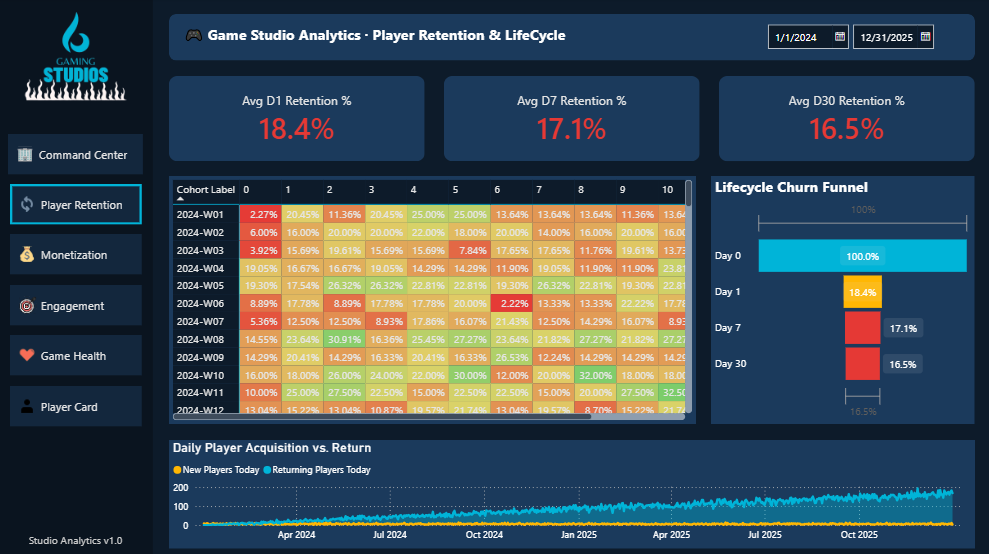

What the dashboard file says about the page in this screenshot:
{"tool":"powerbi","page":{"name":"Player Retention","canvas":[1280,720],"ordinal":1},"visuals":[{"type":"shape","box":[0,0,199.8,720],"z":0},{"type":"image","box":[15.6,0,170.1,131.8],"z":1000},{"type":"textbox","box":[0,684.6,199.8,35.4],"z":2000},{"type":"actionButton","box":[12.8,175.7,174.3,52.4],"z":3000},{"type":"actionButton","box":[15.6,240,170.1,52.4],"z":4000},{"type":"actionButton","box":[15.6,305,170.1,52.4],"z":5000},{"type":"actionButton","box":[15.6,370,170.1,52.4],"z":6000},{"type":"actionButton","box":[15.6,435,170.1,52.4],"z":7000},{"type":"actionButton","box":[15.6,500,170.1,52.4],"z":8000},{"type":"cardVisual","fields":{"Data":["_Measures.Avg D1 Retention %"]},"box":[220,100,330,110],"z":9000},{"type":"shape","box":[220,20,1040,60],"z":10000},{"type":"textbox","box":[235.3,29.8,523,38.3],"z":11000},{"type":"slicer","fields":{"Values":["dim_date.date_key"]},"box":[980,25,260,50],"z":12000},{"type":"cardVisual","fields":{"Data":["_Measures.Avg D7 Retention %"]},"box":[575,100,330.2,110],"z":13000},{"type":"cardVisual","fields":{"Data":["_Measures.Avg D30 Retention %"]},"box":[930,100,330.2,110],"z":14000},{"type":"pivotTable","fields":{"Columns":["dim_cohort_weeks.Weeks Since Reg"],"Rows":["dim_players.Cohort Label"],"Values":["_Measures.Cohort Retention %"]},"box":[220,230,680,320],"z":15000},{"type":"funnel","title":"Lifecycle Churn Funnel","fields":{"Y":["_Measures.Avg D0 Retention %","_Measures.Avg D1 Retention %","_Measures.Avg D7 Retention %","_Measures.Avg D30 Retention %"]},"box":[920,230,340,320],"z":16000},{"type":"stackedAreaChart","title":"Daily Player Acquisition vs. Return","fields":{"Category":["dim_date.date_key"],"Y":["_Measures.New Players Today","_Measures.Returning Players Today"]},"box":[220,570,1040,140],"z":17000}]}

Visuals, with their boxes in screenshot pixels (x1, y1, x2, y2), scaled from the page's 1280x720 canvas onto the 989x554 screenshot:
shape: pyautogui.locateOnScreen(0, 0, 154, 553)
image: pyautogui.locateOnScreen(12, 0, 143, 101)
textbox: pyautogui.locateOnScreen(0, 527, 154, 553)
actionButton: pyautogui.locateOnScreen(10, 135, 145, 176)
actionButton: pyautogui.locateOnScreen(12, 185, 143, 225)
actionButton: pyautogui.locateOnScreen(12, 235, 143, 275)
actionButton: pyautogui.locateOnScreen(12, 285, 143, 325)
actionButton: pyautogui.locateOnScreen(12, 335, 143, 375)
actionButton: pyautogui.locateOnScreen(12, 385, 143, 425)
cardVisual - _Measures.Avg D1 Retention %: pyautogui.locateOnScreen(170, 77, 425, 162)
shape: pyautogui.locateOnScreen(170, 15, 974, 62)
textbox: pyautogui.locateOnScreen(182, 23, 586, 52)
slicer - dim_date.date_key: pyautogui.locateOnScreen(757, 19, 958, 58)
cardVisual - _Measures.Avg D7 Retention %: pyautogui.locateOnScreen(444, 77, 699, 162)
cardVisual - _Measures.Avg D30 Retention %: pyautogui.locateOnScreen(719, 77, 974, 162)
pivotTable - dim_cohort_weeks.Weeks Since Reg x dim_players.Cohort Label: pyautogui.locateOnScreen(170, 177, 695, 423)
"Lifecycle Churn Funnel" funnel: pyautogui.locateOnScreen(711, 177, 974, 423)
"Daily Player Acquisition vs. Return" stackedAreaChart: pyautogui.locateOnScreen(170, 439, 974, 546)
